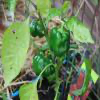Bell_pepper leaf: (2, 19, 31, 84)
